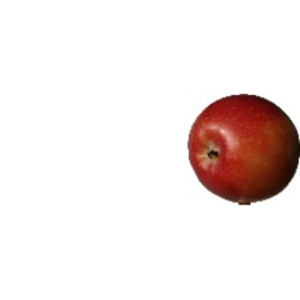maçã braeburn: (186, 93, 300, 202)
